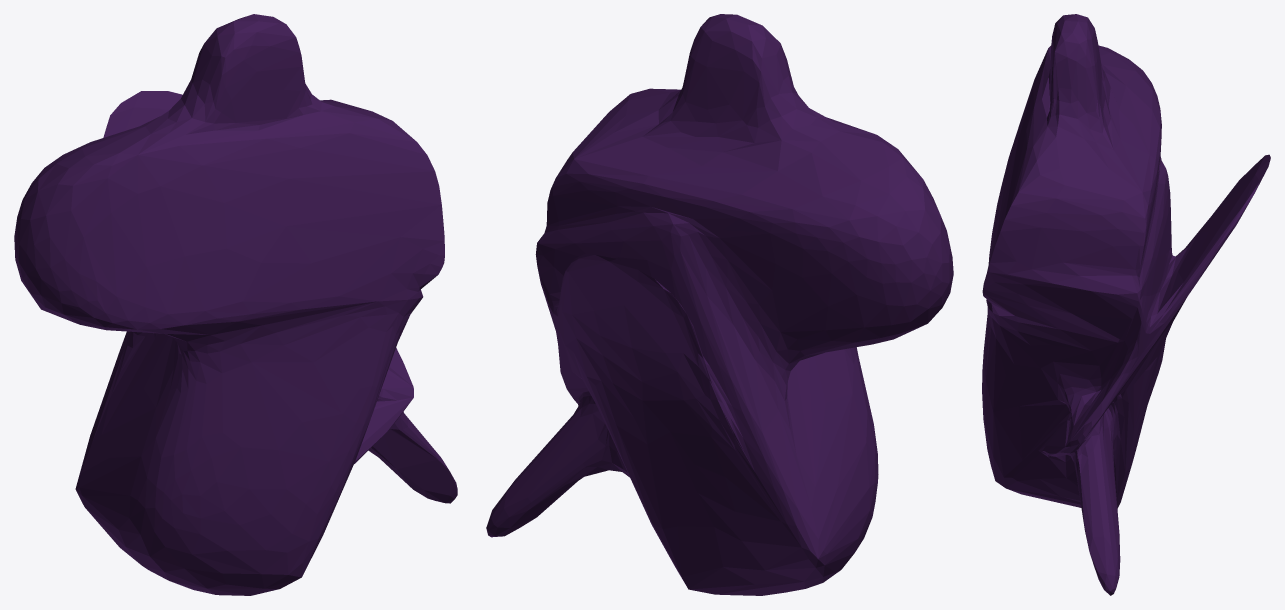
3 views of the same model, side by side, from view 1: azimuth 30°, elevation 25°; view 2: azimuth 150°, elevation 25°; view 3: azimuth 270°, elevation 25° (orthographic). The views are drawn at different scales.
Visible parts, largest first — view 1: 144_Cube.599; view 2: 144_Cube.599; view 3: 144_Cube.599.
Boxes of the visible parts, left/top/right/bottom form: 144_Cube.599: left=14, top=14, right=457, bottom=595; 144_Cube.599: left=486, top=14, right=953, bottom=595; 144_Cube.599: left=982, top=14, right=1270, bottom=595.
Bounding box in the file's own units: 13.79 × 16.7 × 8.92.
